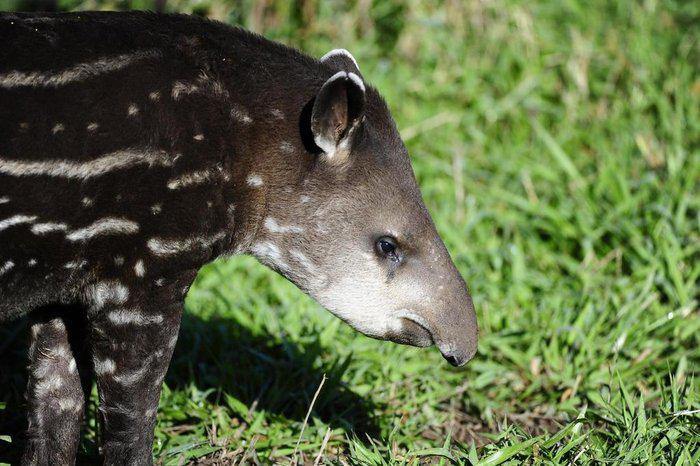Anta: (4, 8, 491, 447)
